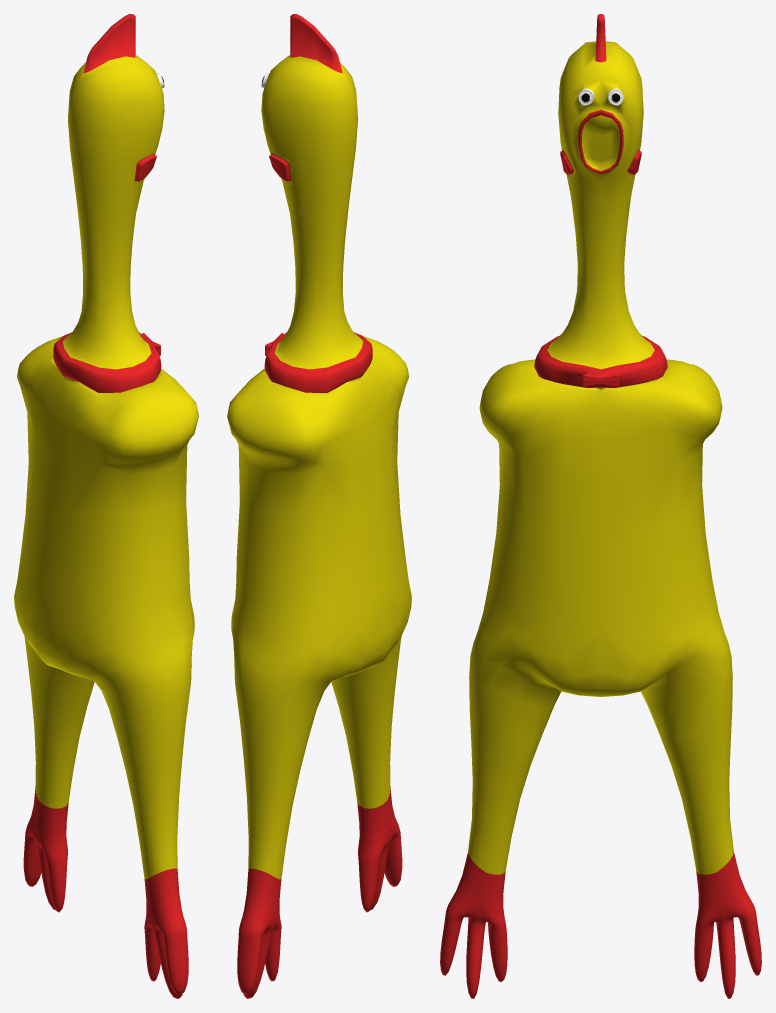
Rendered from oyuncak_tavuk.fbx.
3 views of the same model, side by side, from view 1: azimuth 30°, elevation 25°; view 2: azimuth 150°, elevation 25°; view 3: azimuth 270°, elevation 25° (orthographic). The views are drawn at different scales.
Visible parts, largest first — view 1: Cube; view 2: Cube; view 3: Cube.
Part boxes in pixels (x1,y1,x2,y2): Cube: [14, 14, 198, 998]; Cube: [227, 14, 411, 998]; Cube: [440, 14, 761, 998].
Bounding box in the file's own units: 284 × 1824 × 537.
